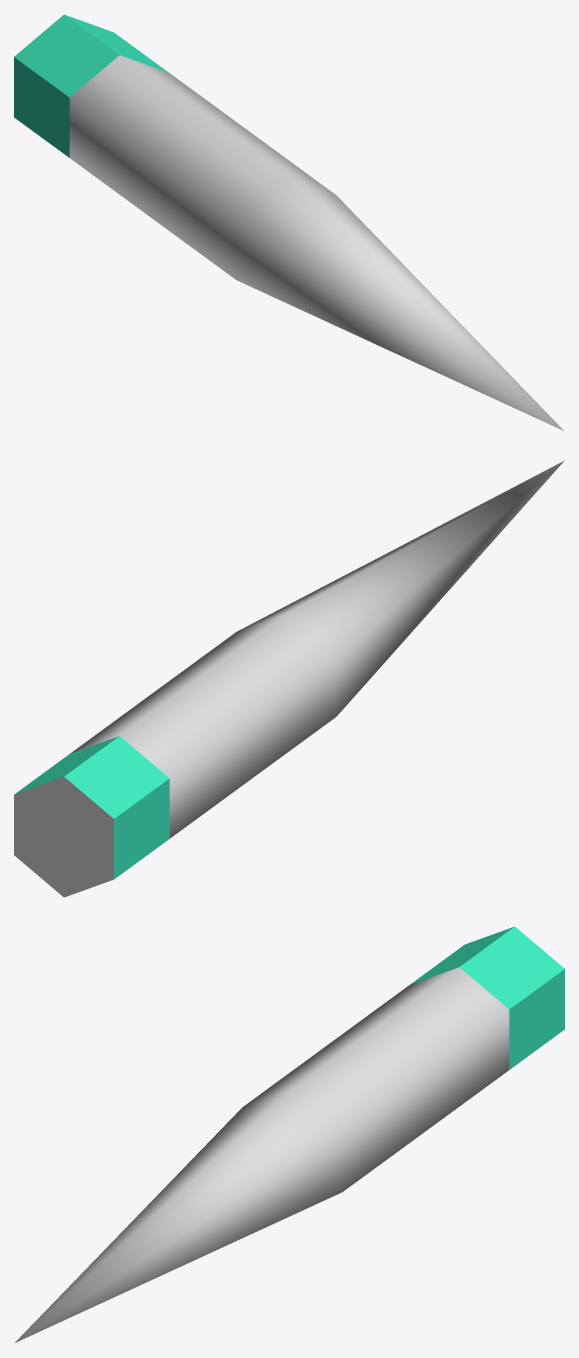
Rendered from 10mlPipetTip.fbx.
The picture shows the model from 3 angles, top to bottom: view 1: azimuth 30°, elevation 25°; view 2: azimuth 150°, elevation 25°; view 3: azimuth 330°, elevation 25°; orthographic projection.
Parts seen in each view (by area): view 1: 10ml; view 2: 10ml; view 3: 10ml.
Boxes of the visible parts, <box> form: 10ml: <box>14,14,563,430</box>; 10ml: <box>14,460,564,897</box>; 10ml: <box>15,926,564,1342</box>.
Bounding box in the file's own units: 1.04 × 1.2 × 9.01.
